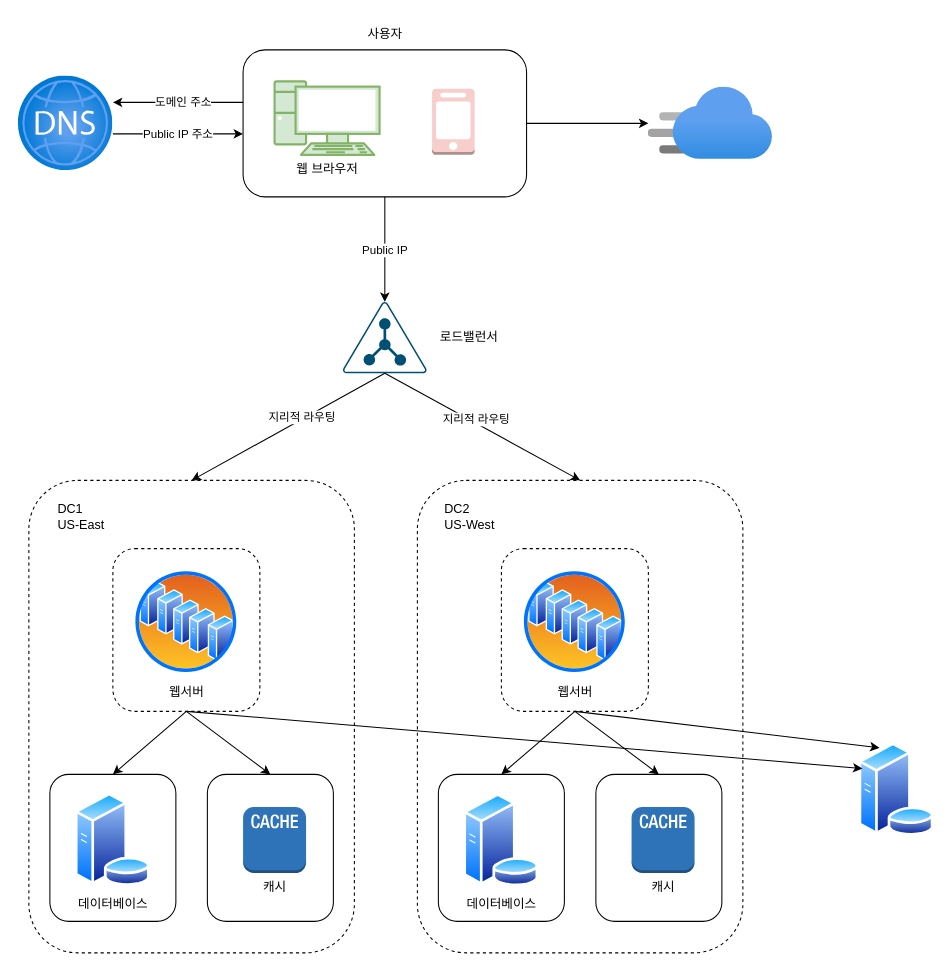
Image size: 952x971. Some labels were removed from this diagram. The box of each missing label's shape, as (x1, y1, x2, y2) in pixels:
CDN: (648, 86, 772, 159)
NoSQL: (858, 742, 934, 835)
모바일 앱: (431, 88, 475, 155)
